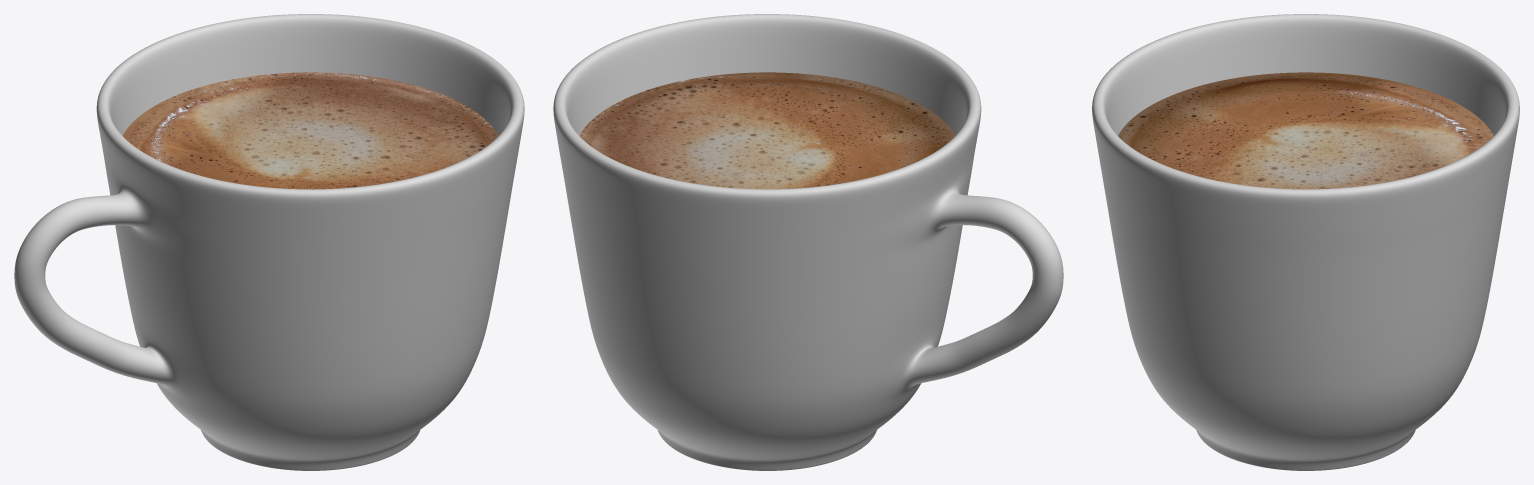
The model's file is coffee_latte_in_mug_with_saucer.glb.
The picture shows the model from 3 angles, left to right: view 1: azimuth 30°, elevation 25°; view 2: azimuth 150°, elevation 25°; view 3: azimuth 270°, elevation 25°; orthographic projection.
Parts seen in each view (by area): view 1: Cup, Coffee; view 2: Cup, Coffee; view 3: Cup, Coffee.
Boxes of the visible parts, box(x1,y1,x2,y2) form: Cup: box(14, 14, 524, 470); Coffee: box(122, 72, 498, 189); Cup: box(553, 14, 1063, 470); Coffee: box(579, 72, 955, 189); Cup: box(1092, 14, 1519, 470); Coffee: box(1118, 72, 1493, 189).
Size of the model in its own units: 1.15 by 0.738 by 0.8878.
Materials: 2 (1 with a texture image).
